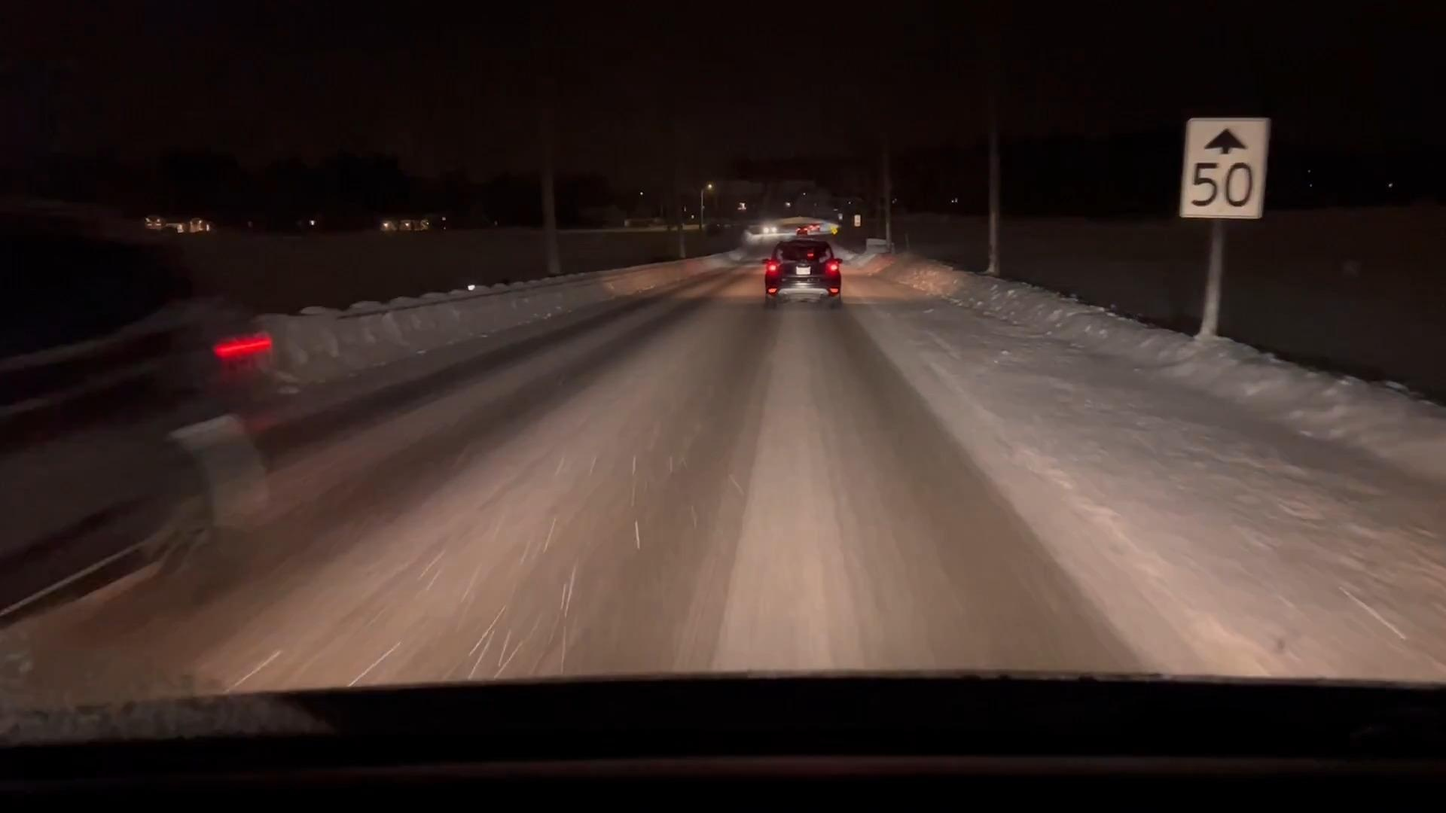Snow: (0, 237, 1446, 706)
